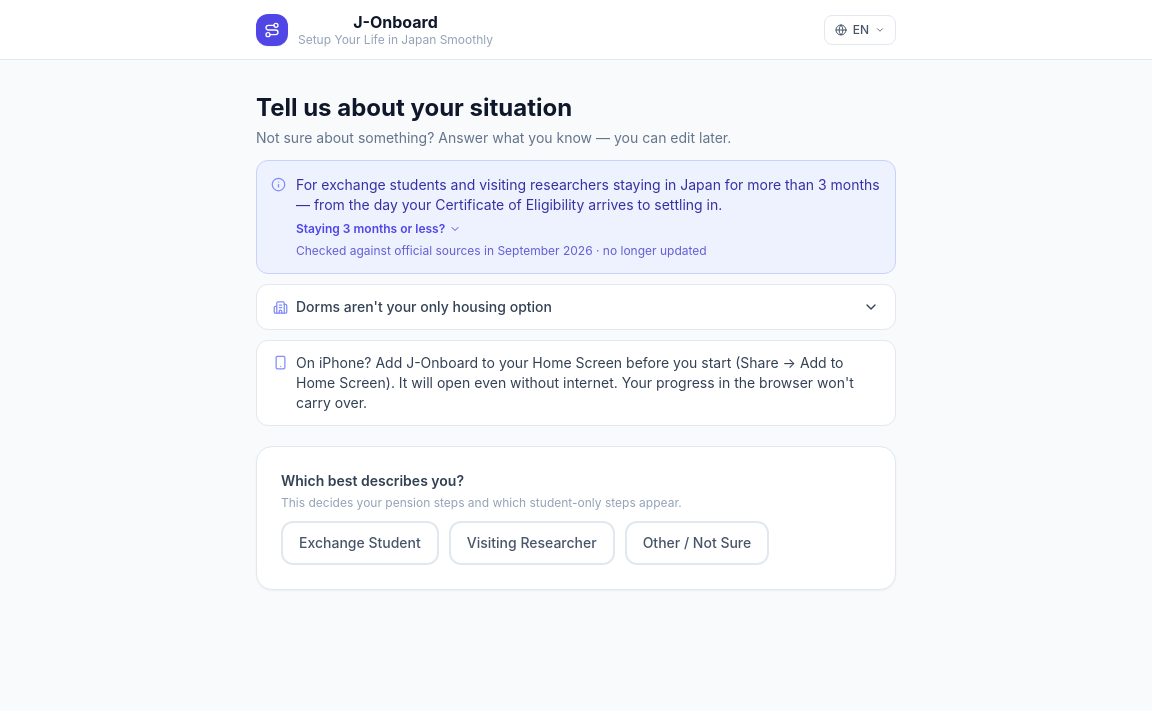
Test: counter sheet › asks only for what is left, and names what is already done
Click the button "Exchange Student".
click(360, 543)  # box [281,521,439,565]
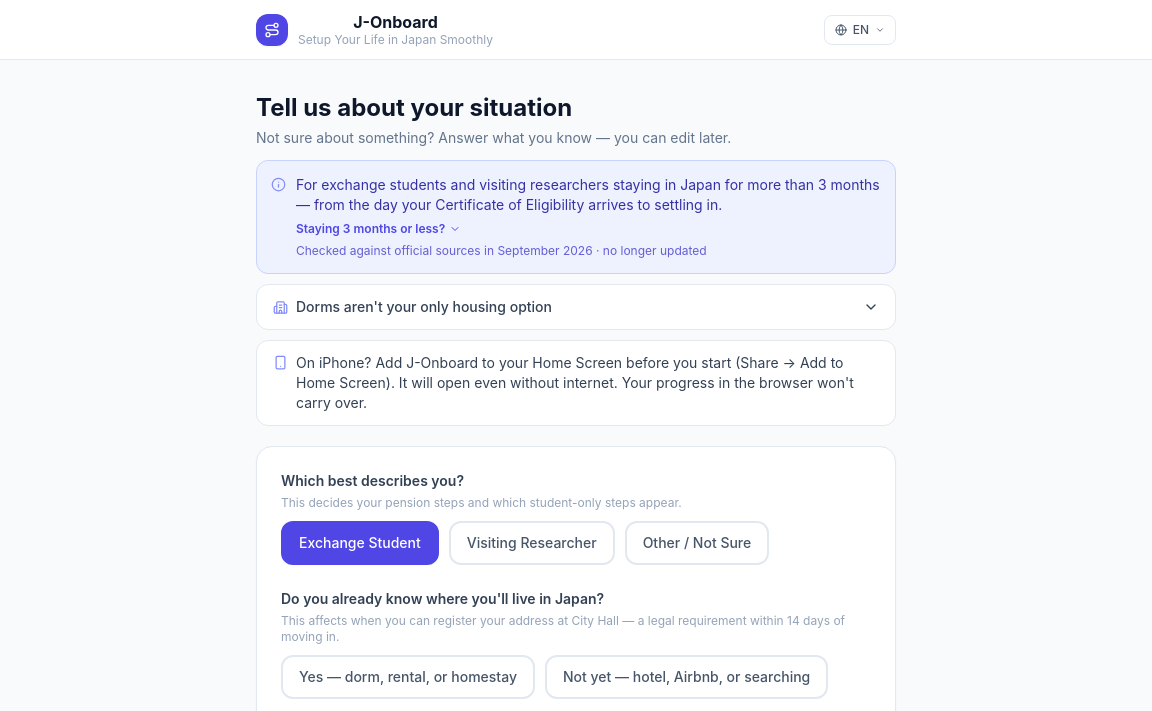
Click the button "Yes — dorm, rental, or homestay".
click(408, 677)  # box [281,655,535,699]
(page scrolled)
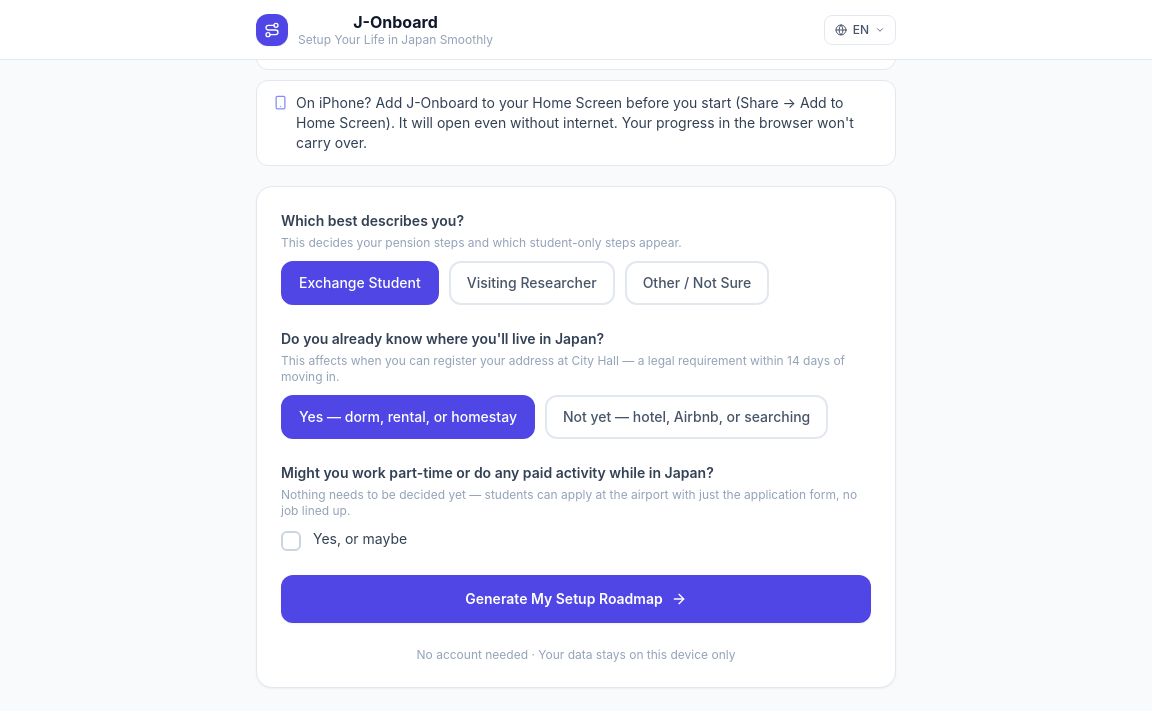
Click the button "Generate My Setup Roadmap".
click(576, 599)  # box [281,575,871,623]
(page scrolled)
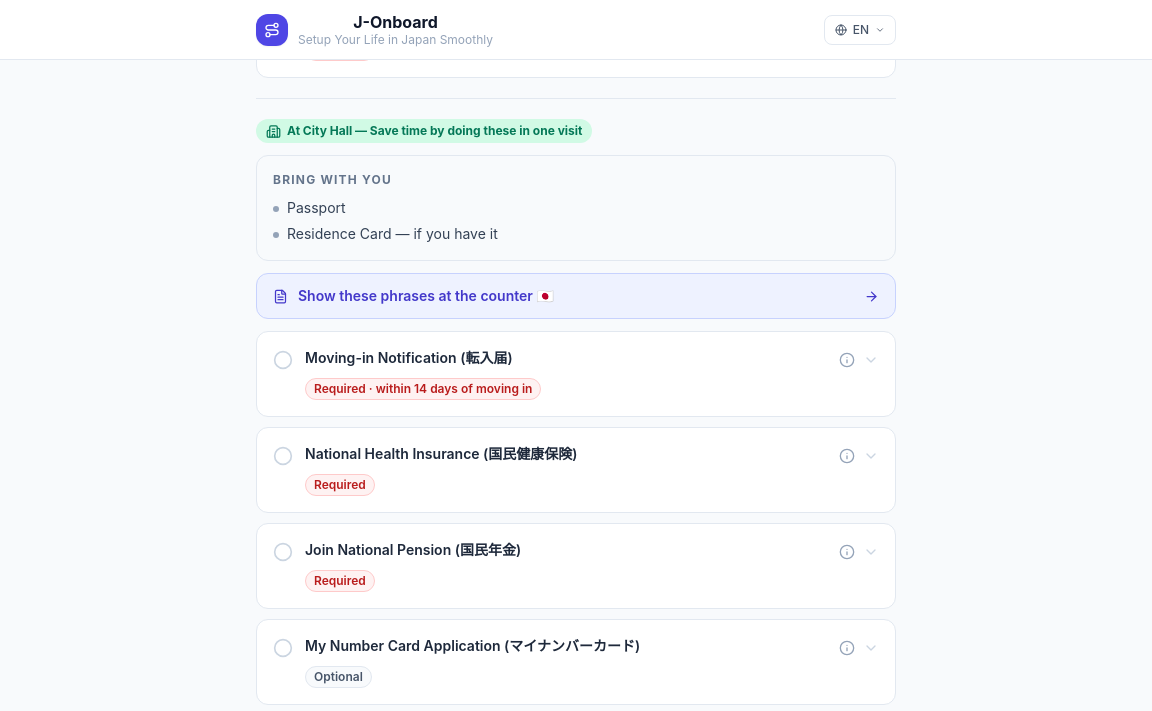
Click the checkbox named "Moving-in Notification (転入届)".
click(283, 360)  # box [273,350,293,370]
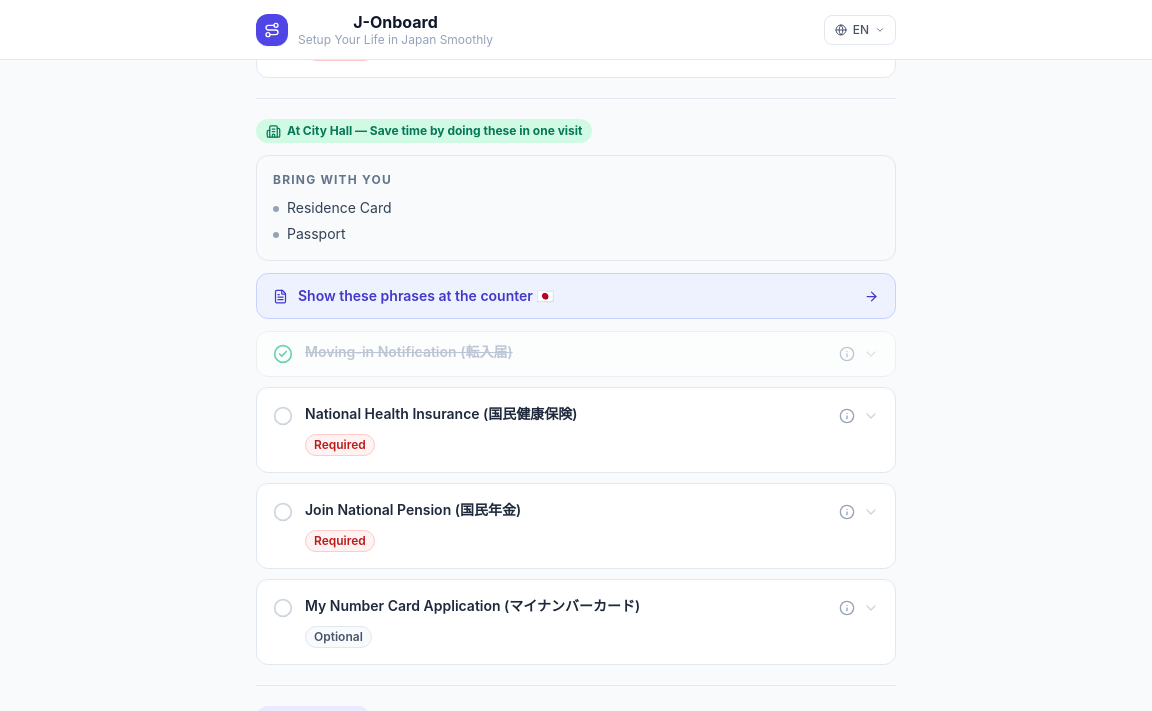
Click the button "Show these phrases at the counter 🇯🇵".
click(426, 296)  # box [256,273,896,319]
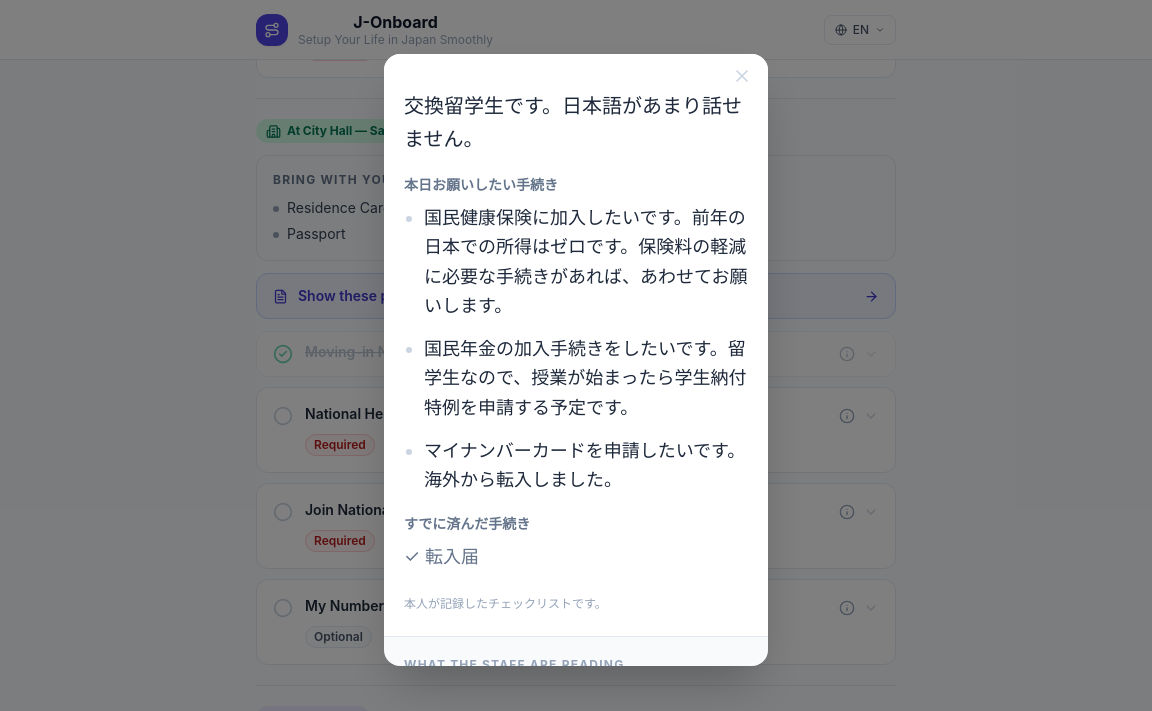
Now the list item "国民健康保険に加入したいです。前年の日本での所得はゼロです。保険料の軽減に必要な手続きがあれば、あわせてお願いします。" is shown, box [424,203,748,320]
Now the text "転入届" is shown, box [425,546,479,567]
